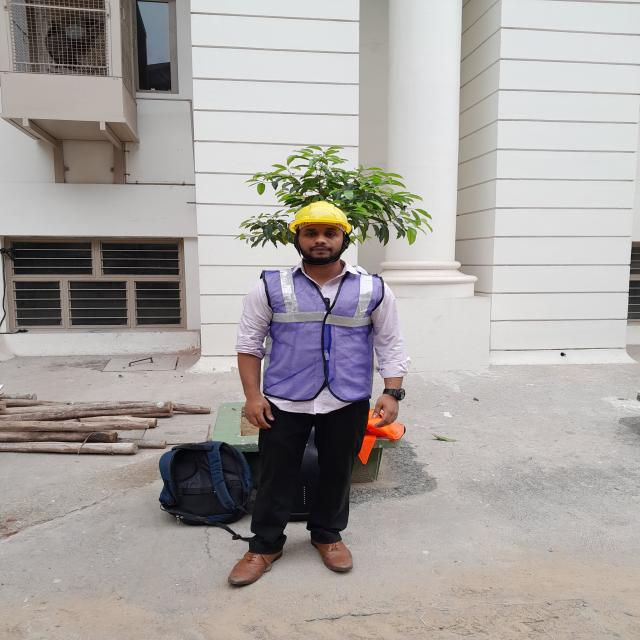safe: (237, 201, 403, 571)
